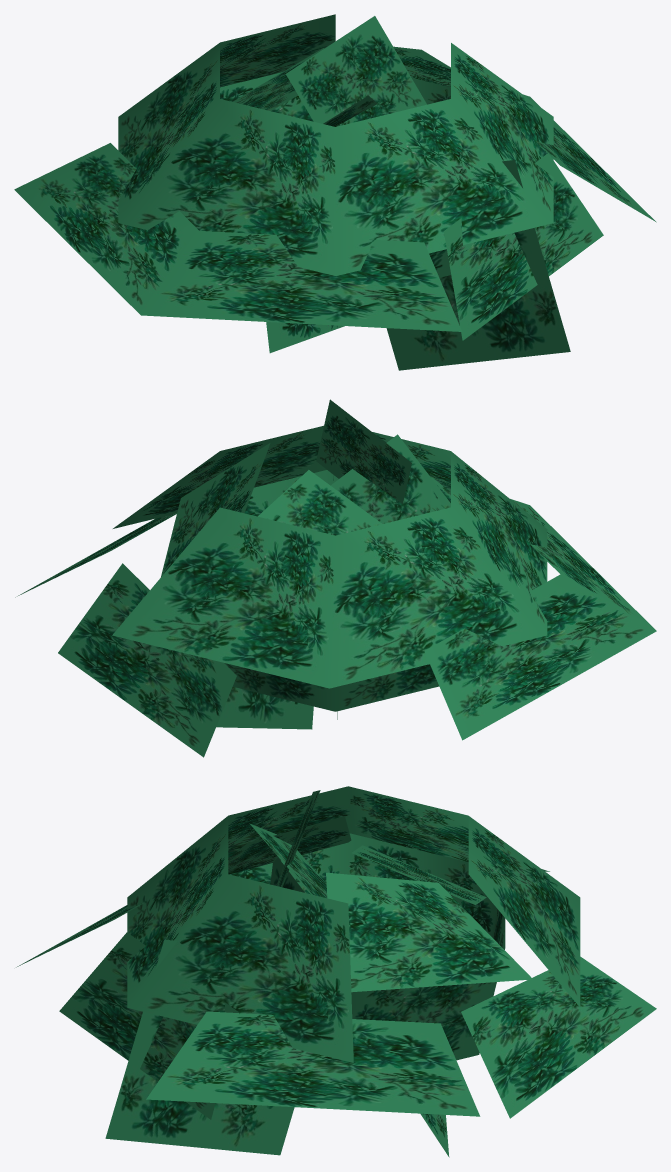
File: swamp_tree_roots_canopy.fbx
3 renders of one model, top to bottom at view 1: azimuth 30°, elevation 25°; view 2: azimuth 150°, elevation 25°; view 3: azimuth 270°, elevation 25°, orthographic. The views are drawn at different scales.
Visible parts, largest first — view 1: swamp_tree_roots_canopy; view 2: swamp_tree_roots_canopy; view 3: swamp_tree_roots_canopy.
Boxes of the visible parts, x1,y1,x2,y2 form: swamp_tree_roots_canopy: (14,14,656,370); swamp_tree_roots_canopy: (15,399,656,757); swamp_tree_roots_canopy: (16,786,656,1157).
Bounding box in the file's own units: 2633 × 1684 × 2731.
1 material, 1 textured.
